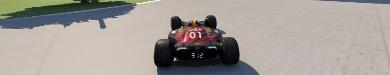Car: (153, 14, 239, 67)
curve: (0, 0, 389, 74)
